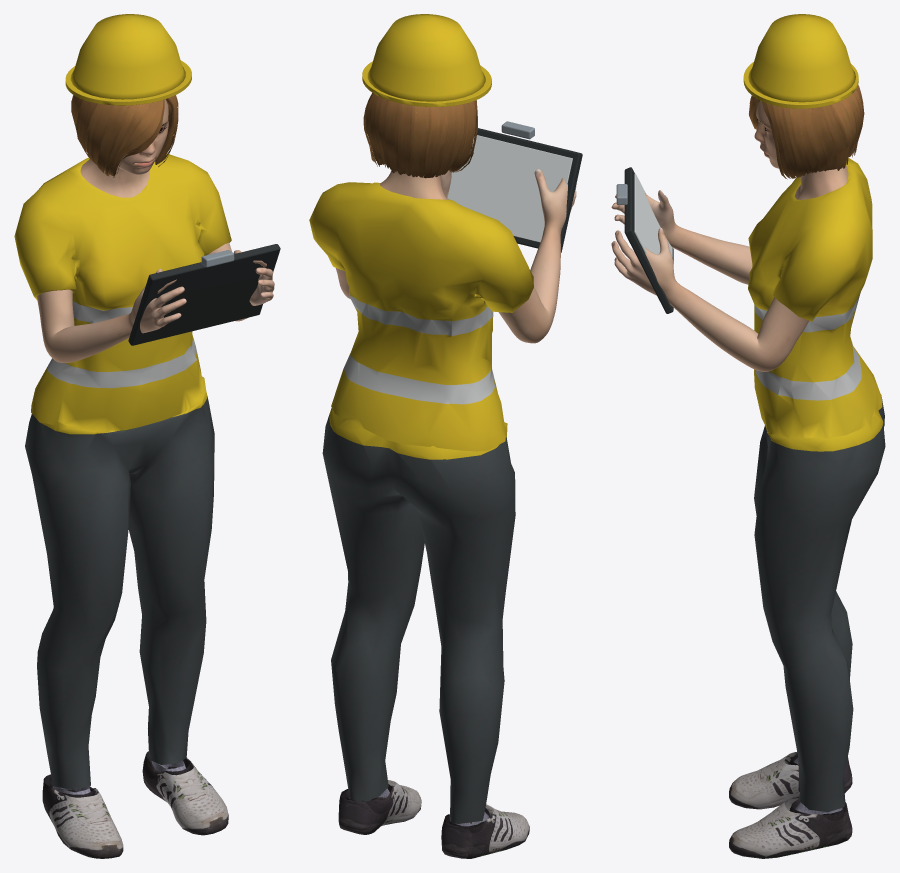
File: premium-worker-clipboard-taylor.glb
3 views of the same model, side by side, from view 1: azimuth 30°, elevation 25°; view 2: azimuth 150°, elevation 25°; view 3: azimuth 270°, elevation 25° (orthographic). The views are drawn at different scales.
Parts seen in each view (by area): view 1: female_casualsuit01, Taylor | anatomical body, shoes05, Worker | original hardhat shell, Tablet case, bob02, Worker | integral hardhat brim; view 2: female_casualsuit01, Worker | original hardhat shell, Tablet display, bob02, Taylor | anatomical body, shoes05, Tablet case, Worker | integral hardhat brim; view 3: female_casualsuit01, Taylor | anatomical body, shoes05, Worker | original hardhat shell, bob02, Tablet case, Tablet display, Worker | integral hardhat brim.
Boxes of the visible parts, x1=… form: female_casualsuit01: x1=14, y1=154, x2=231, y2=789; Taylor | anatomical body: x1=36, y1=99, x2=274, y2=362; shoes05: x1=42, y1=751, x2=228, y2=858; Worker | original hardhat shell: x1=70, y1=14, x2=185, y2=99; Tablet case: x1=128, y1=244, x2=280, y2=345; bob02: x1=71, y1=95, x2=178, y2=177; Worker | integral hardhat brim: x1=65, y1=60, x2=191, y2=105; female_casualsuit01: x1=309, y1=182, x2=533, y2=823; Worker | original hardhat shell: x1=367, y1=14, x2=485, y2=101; Tablet display: x1=447, y1=135, x2=572, y2=242; bob02: x1=363, y1=93, x2=477, y2=178; Taylor | anatomical body: x1=335, y1=169, x2=576, y2=343; shoes05: x1=338, y1=780, x2=529, y2=858; Tablet case: x1=477, y1=128, x2=582, y2=252; Worker | integral hardhat brim: x1=362, y1=61, x2=491, y2=106; female_casualsuit01: x1=748, y1=158, x2=885, y2=812; Taylor | anatomical body: x1=611, y1=101, x2=848, y2=371; shoes05: x1=729, y1=752, x2=852, y2=858; Worker | original hardhat shell: x1=748, y1=14, x2=855, y2=102; bob02: x1=749, y1=85, x2=864, y2=179; Tablet case: x1=624, y1=167, x2=673, y2=313; Tablet display: x1=634, y1=173, x2=672, y2=257; Worker | integral hardhat brim: x1=743, y1=62, x2=858, y2=108.
Size of the model in its own units: 0.4618 by 1.77 by 0.5461.
Materials: 14 (13 with a texture image).
